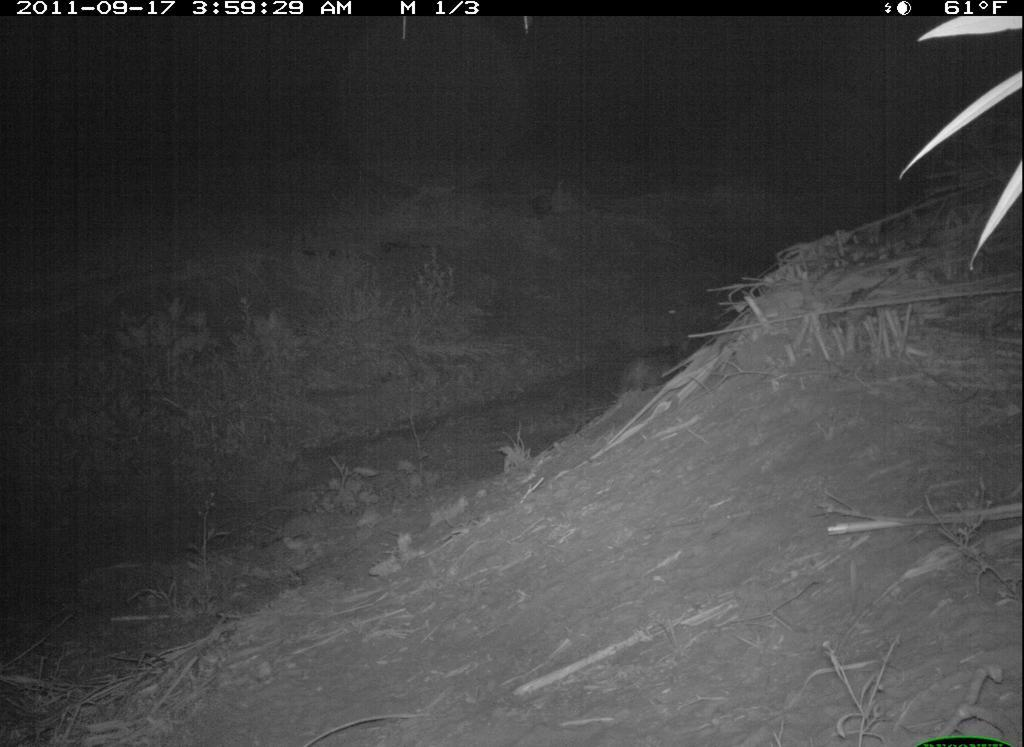coyote: (613, 344, 697, 399)
